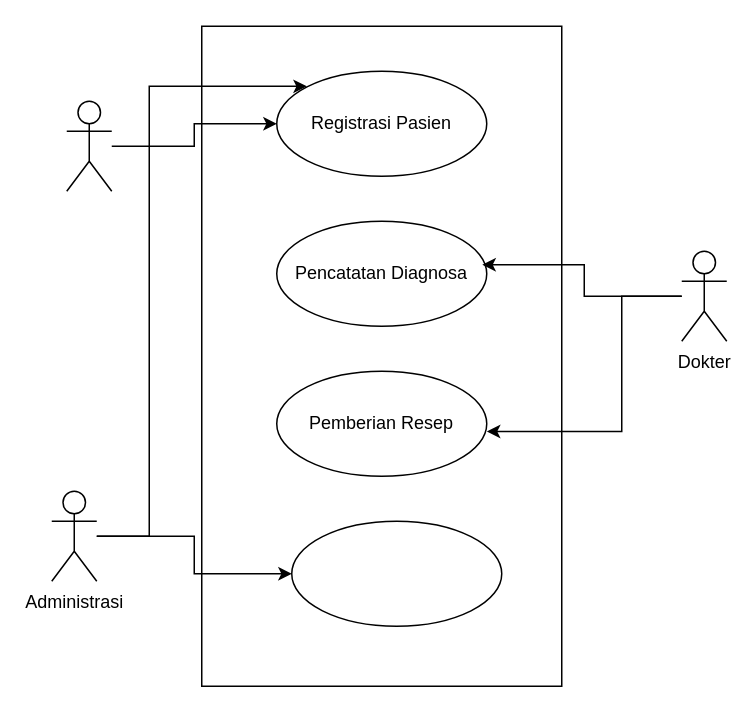
This 756x713 diagram has some shape labels left out. The centre of each missing label's shape, as x and y in pixels:
Pasien: (88,145)
Penjadwalan Kunjungan: (396,573)
